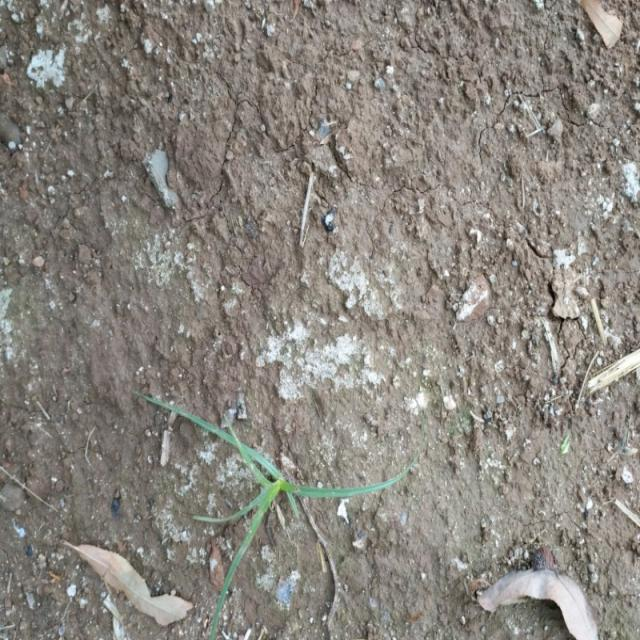sedge: (156, 378, 402, 616)
